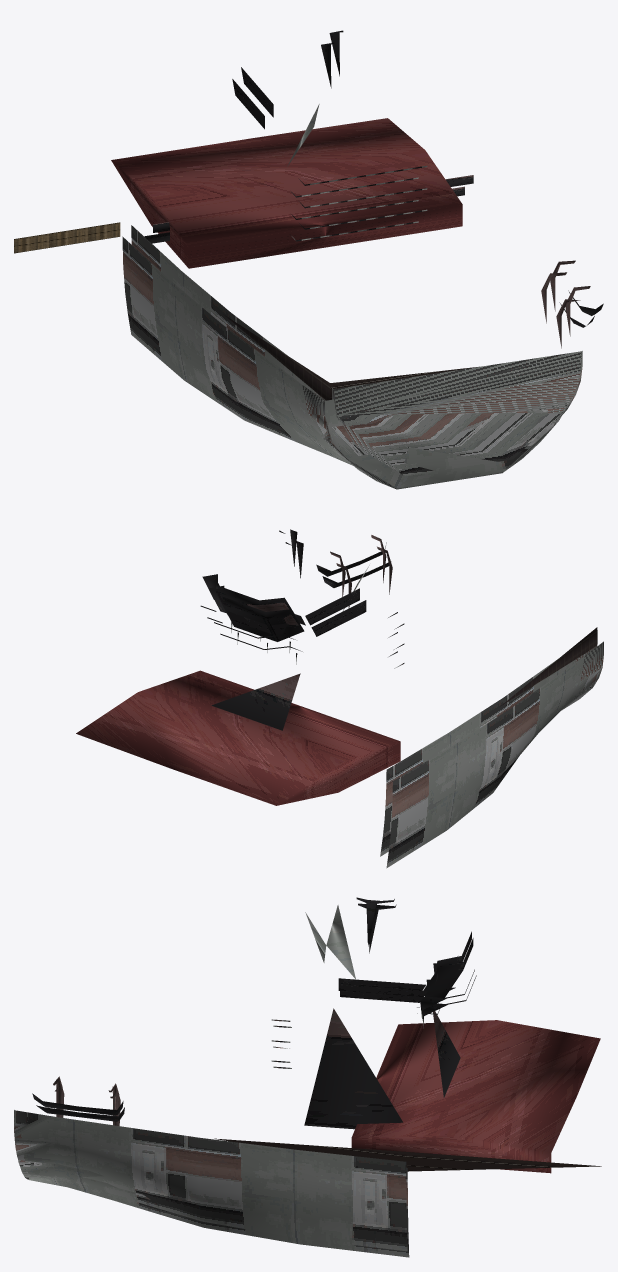
The model's file is world_camden_17_-8.gltf.
3 renders of one model, top to bottom at view 1: azimuth 30°, elevation 25°; view 2: azimuth 150°, elevation 25°; view 3: azimuth 270°, elevation 25°, orthographic. The views are drawn at different scales.
Bounding box in the file's own units: 119 × 86.05 × 159.
Materials: 4 (4 with a texture image).
